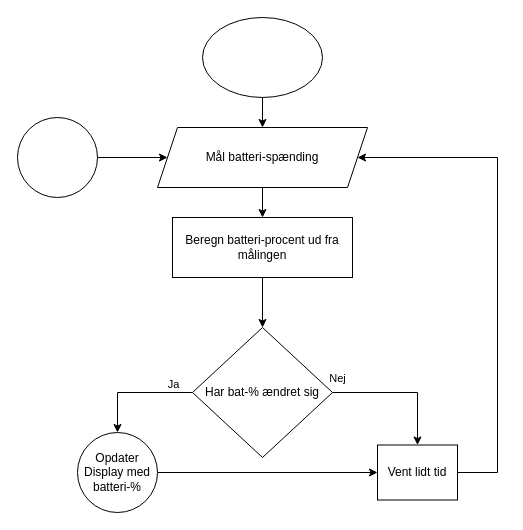
Some shapes in this 523 by 530 pixel diagram are drawn without their labels. The centre of each missing label's shape, as x and y in pixels:
A Main: the point at 57,157
ID:1 Start: the point at 262,57
